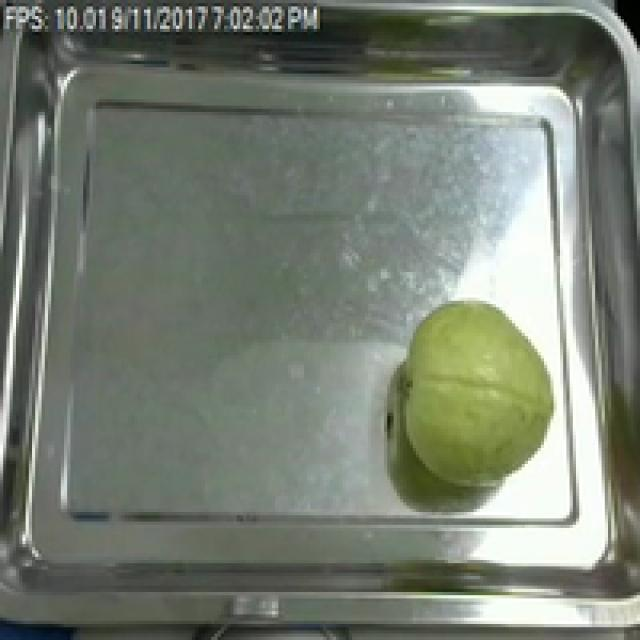Fruit: (384, 291, 566, 496)
